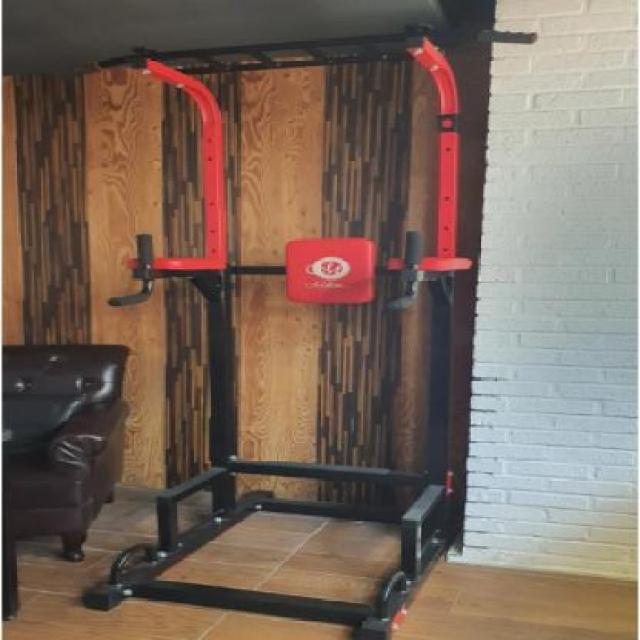chinning dipping: (81, 26, 538, 640)
